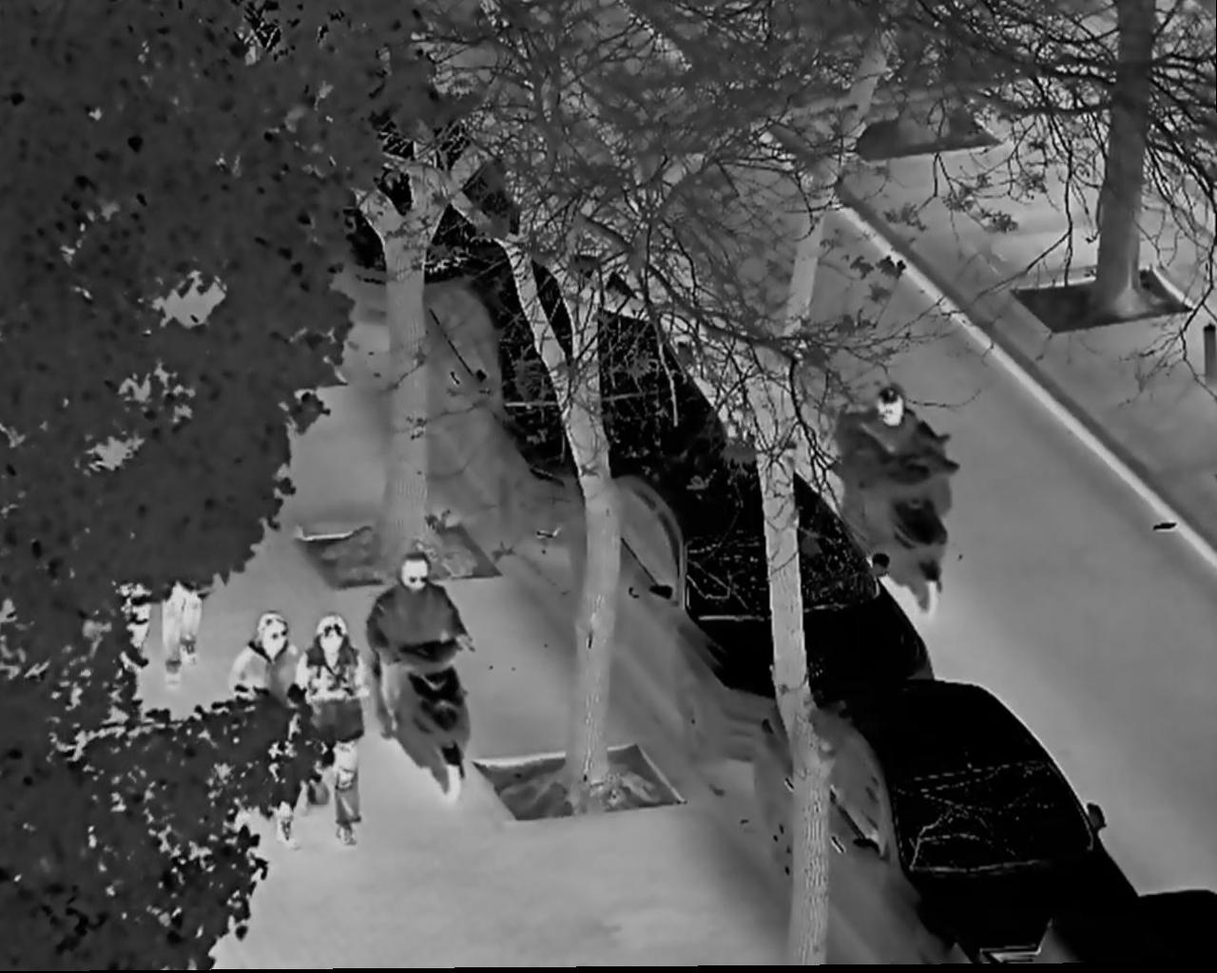person: (228, 616, 310, 848), (378, 551, 472, 744), (300, 613, 376, 847), (847, 391, 946, 558), (154, 499, 205, 694)
